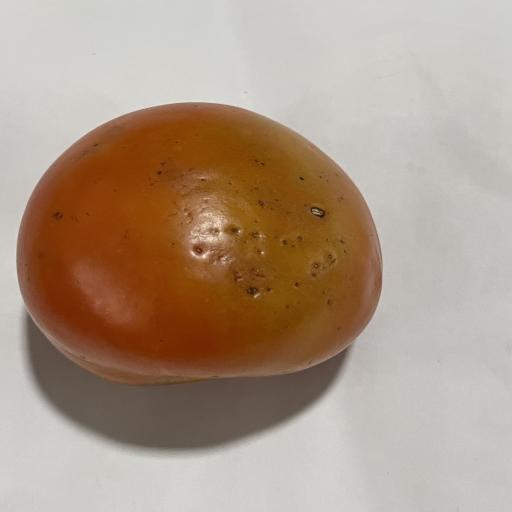unripe: (17, 103, 382, 385)
